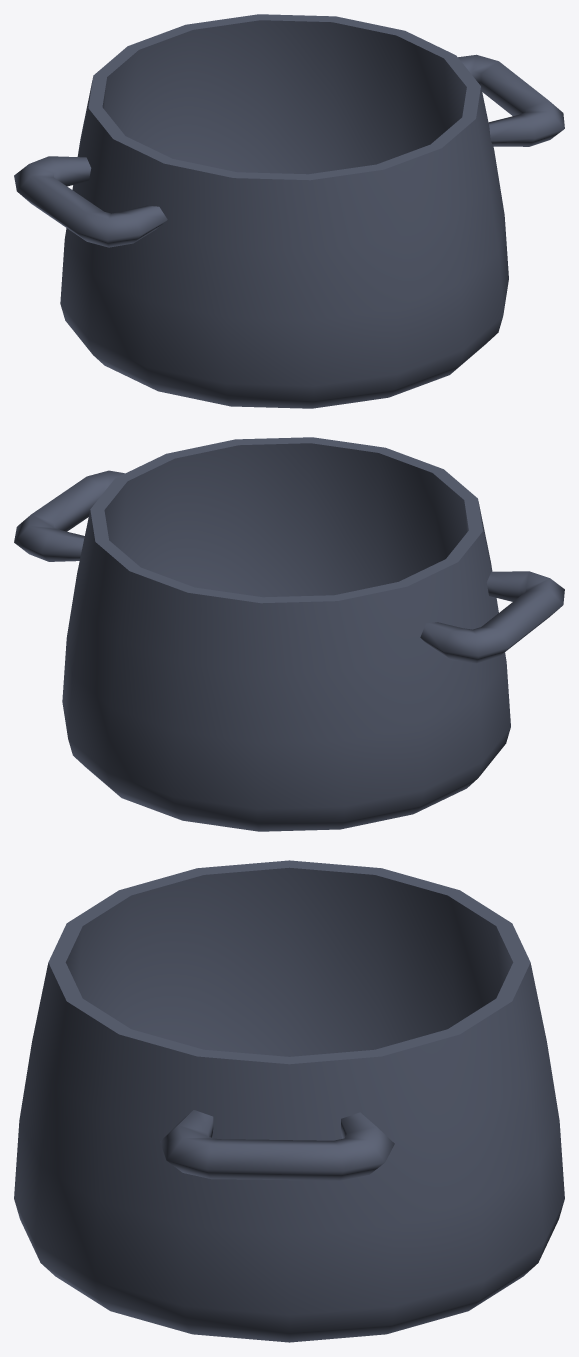
The model's file is Pot.FBX.
The picture shows the model from 3 angles, top to bottom: view 1: azimuth 30°, elevation 25°; view 2: azimuth 150°, elevation 25°; view 3: azimuth 270°, elevation 25°; orthographic projection. The views are drawn at different scales.
Parts seen in each view (by area): view 1: Pot; view 2: Pot; view 3: Pot.
Part boxes in pixels (left/top/right/bottom): Pot: left=14, top=14, right=564, bottom=408; Pot: left=14, top=437, right=564, bottom=831; Pot: left=14, top=860, right=564, bottom=1342.
Bounding box in the file's own units: 59.99 × 26.08 × 47.69.
